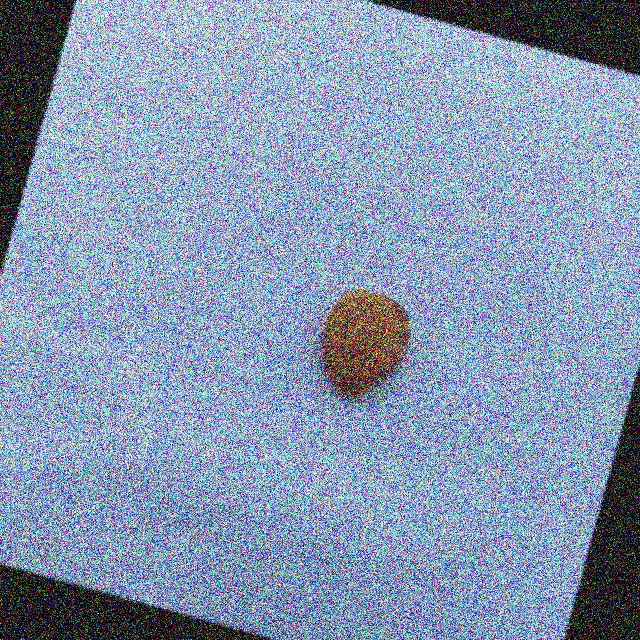grade1: (297, 273, 428, 417)
